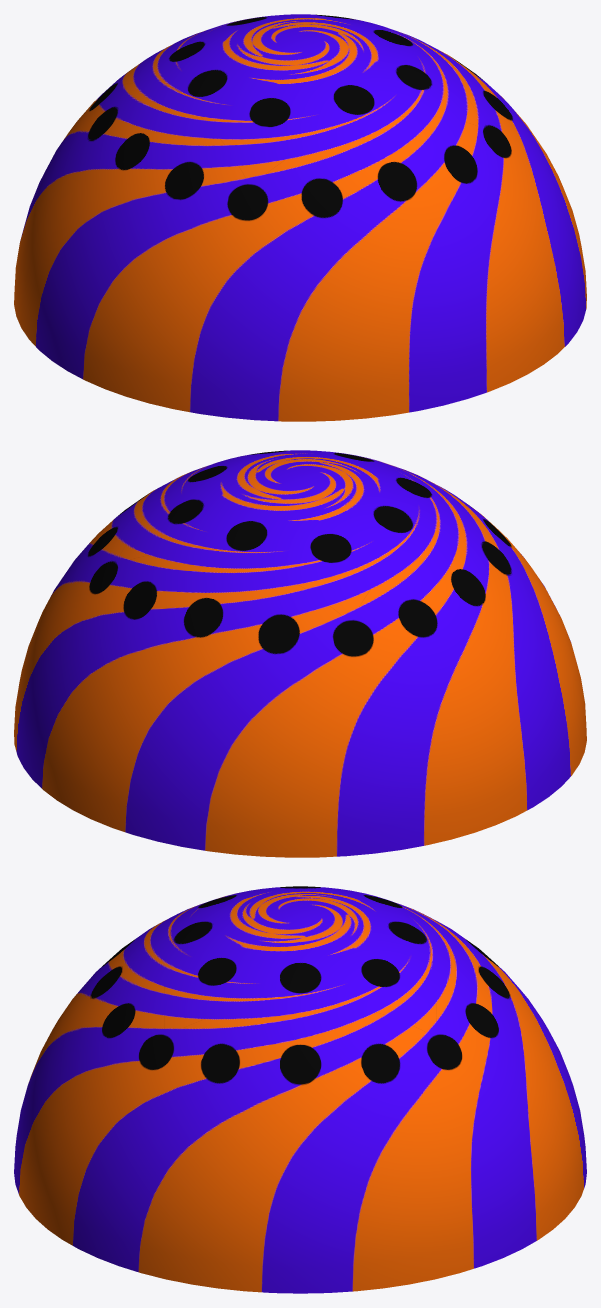
Rendered from dome.fbx.
The picture shows the model from 3 angles, top to bottom: view 1: azimuth 30°, elevation 25°; view 2: azimuth 150°, elevation 25°; view 3: azimuth 270°, elevation 25°; orthographic projection.
Parts seen in each view (by area): view 1: Sphere; view 2: Sphere; view 3: Sphere.
Boxes of the visible parts, x1,y1,x2,y2 form: Sphere: (14,14,586,421); Sphere: (14,450,586,857); Sphere: (14,886,586,1293).
Size of the model in its own units: 600 by 300 by 600.
